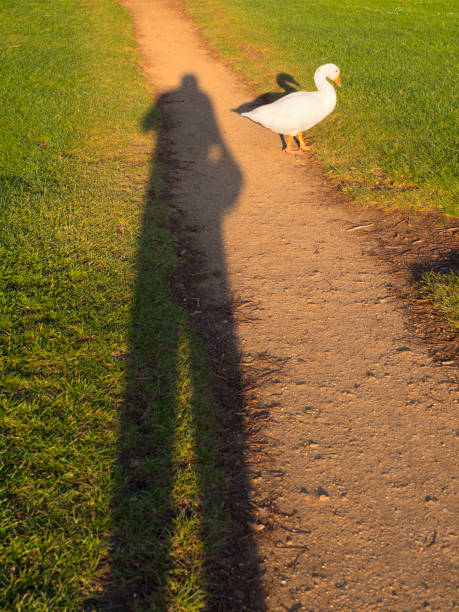goose: (235, 59, 348, 157)
